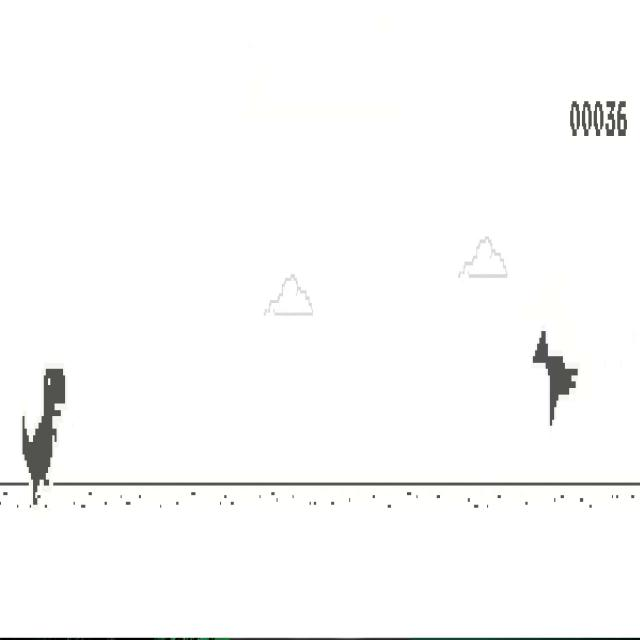dino: (23, 366, 65, 506)
ptero: (533, 329, 578, 427)
